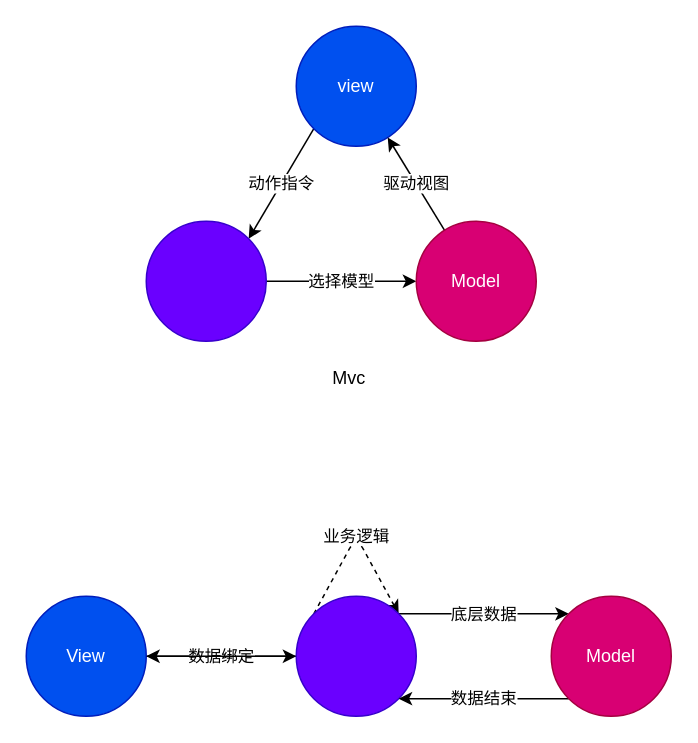
Image size: 698x743. Some labels were removed from this diagram. Each missing label, with the box of its shape:
Controller: (145, 220, 266, 341)
ViewModel: (295, 595, 416, 716)
